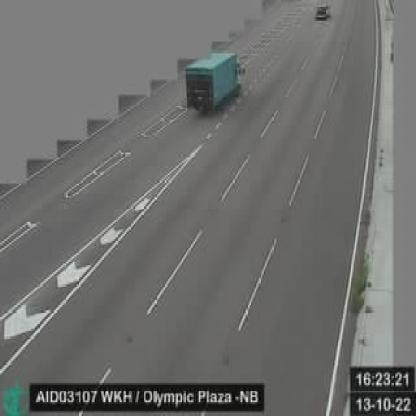Car: (316, 2, 332, 20)
Truck: (184, 52, 246, 118)
